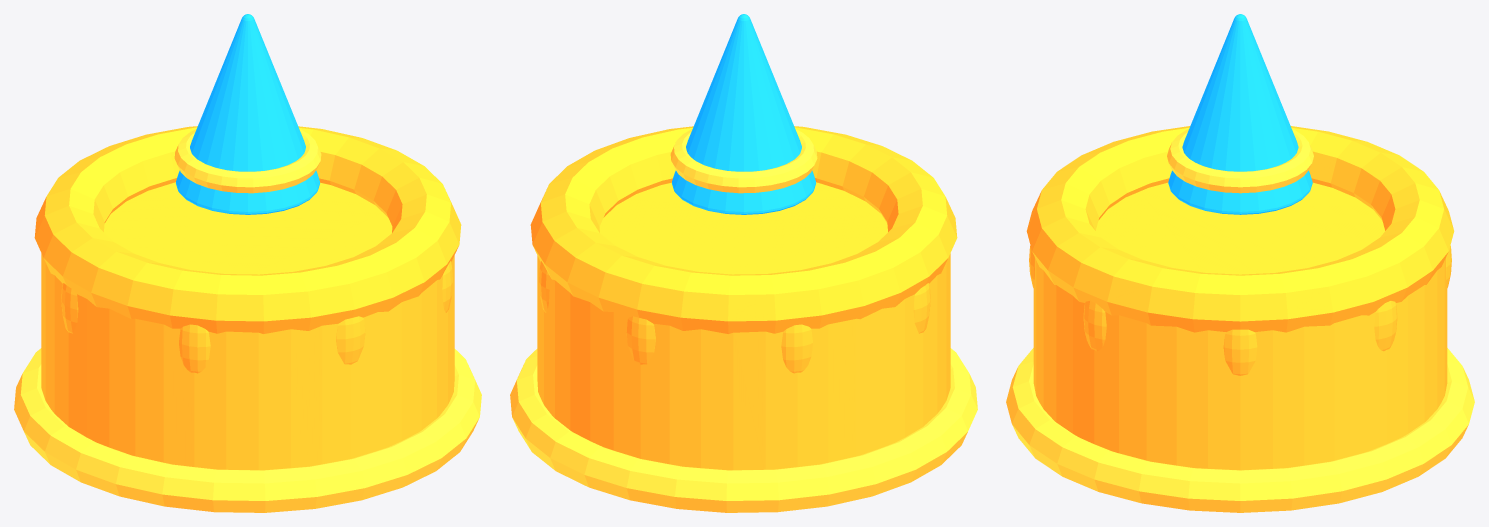
File: golden_wizard_cake.glb
3 renders of one model, left to right at view 1: azimuth 30°, elevation 25°; view 2: azimuth 150°, elevation 25°; view 3: azimuth 270°, elevation 25°, orthographic.
Visible parts, largest first — view 1: Cake, Torus.003, Torus.002, Wizard_Hat, Torus.004, Drip.005, Drip.006, Drip.004; view 2: Cake, Torus.003, Torus.002, Wizard_Hat, Torus.004, Drip.003, Drip.002, Drip.004; view 3: Cake, Torus.003, Torus.002, Wizard_Hat, Torus.004, Drip, Drip.001, Drip.007.
Part boxes in pixels (x1,y1,x2,y2): Cake: (41,182,454,470); Torus.003: (34,126,461,333); Torus.002: (14,348,481,512); Wizard_Hat: (176,14,319,214); Torus.004: (174,129,321,193); Drip.005: (179,324,210,373); Drip.006: (336,316,365,364); Drip.004: (61,283,78,333); Cake: (537,182,950,470); Torus.003: (530,126,957,333); Torus.002: (510,348,977,512); Wizard_Hat: (672,14,815,214); Torus.004: (670,129,817,193); Drip.003: (781,324,812,373); Drip.002: (626,316,655,364); Drip.004: (913,283,930,333); Cake: (1033,182,1447,470); Torus.003: (1026,126,1454,332); Torus.002: (1006,348,1474,512); Wizard_Hat: (1168,14,1312,214); Torus.004: (1167,129,1313,193); Drip: (1223,329,1257,375); Drip.001: (1374,301,1397,351); Drip.007: (1083,301,1106,351).
Size of the model in its own units: 2.04 by 1.96 by 2.04.
